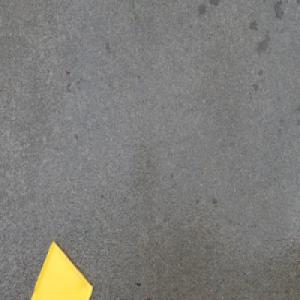PlasticPart: (28, 238, 94, 300)
